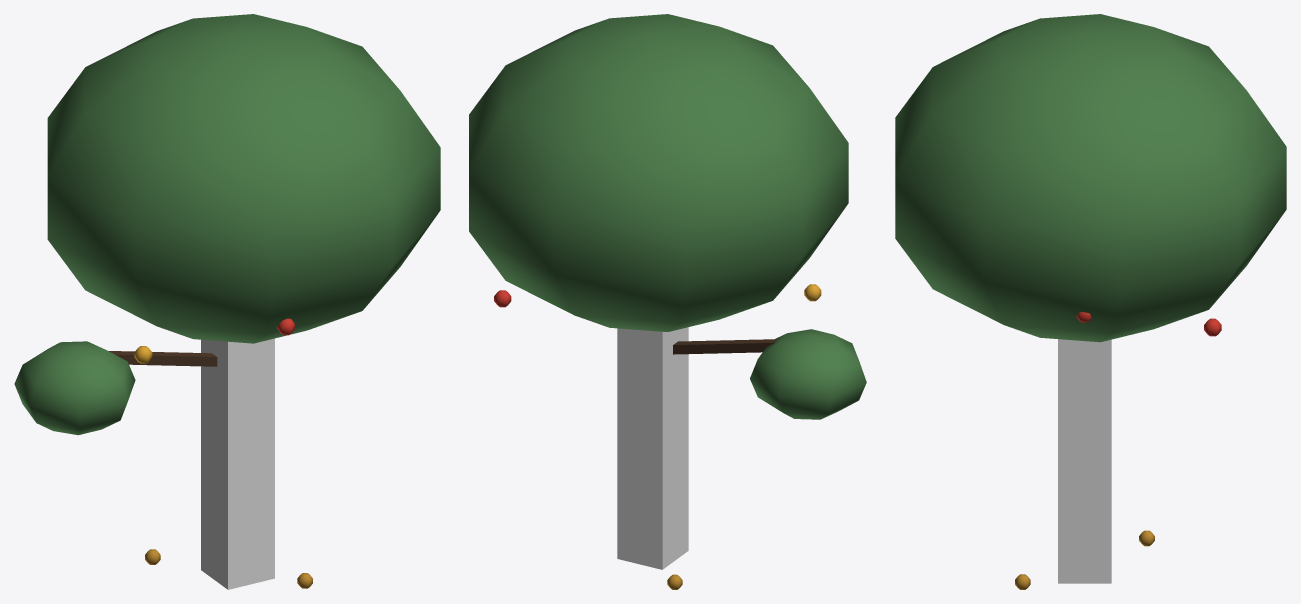
File: plant-apple.glb
3 renders of one model, left to right at view 1: azimuth 30°, elevation 25°; view 2: azimuth 150°, elevation 25°; view 3: azimuth 270°, elevation 25°, orthographic. The views are drawn at different scales.
Visible parts, largest first — view 1: 01_#4a7a48_r320, solid, 02_#4a7a48_noshadow_r110, 00_#4a3424_r320; view 2: 01_#4a7a48_r320, solid, 02_#4a7a48_noshadow_r110, 00_#4a3424_r320; view 3: 01_#4a7a48_r320, solid.
Part boxes in pixels (left/top/right/bottom): 01_#4a7a48_r320: left=47, top=14, right=440, bottom=343; solid: left=201, top=338, right=274, bottom=589; 02_#4a7a48_noshadow_r110: left=14, top=341, right=135, bottom=435; 00_#4a3424_r320: left=108, top=351, right=217, bottom=366; 01_#4a7a48_r320: left=469, top=14, right=848, bottom=331; solid: left=617, top=327, right=688, bottom=569; 02_#4a7a48_noshadow_r110: left=750, top=329, right=866, bottom=419; 00_#4a3424_r320: left=673, top=339, right=776, bottom=354; 01_#4a7a48_r320: left=895, top=14, right=1286, bottom=342; solid: left=1058, top=339, right=1111, bottom=583.
Size of the model in its own units: 2.15 by 2.85 by 1.89.
